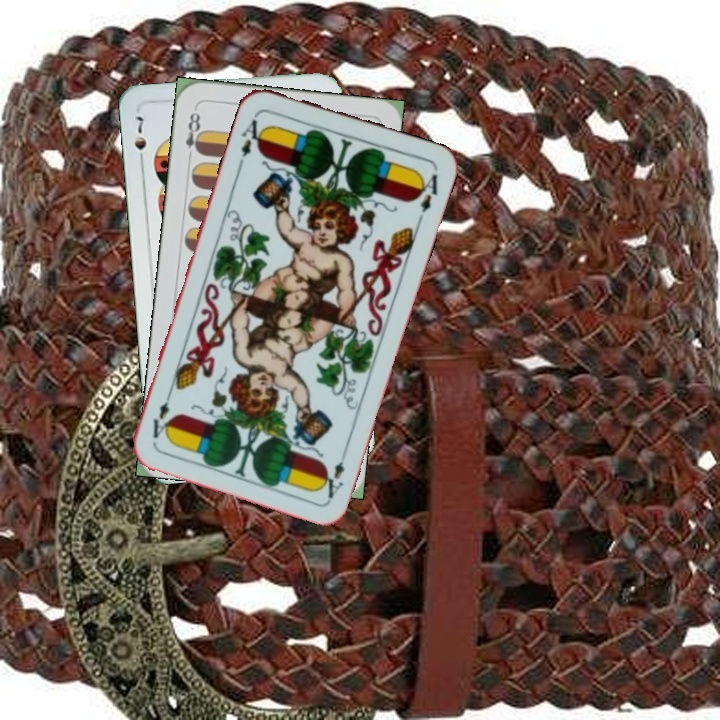E8: (181, 104, 206, 163)
EA: (234, 110, 268, 168), (317, 444, 350, 501)
S7: (130, 112, 149, 169)
